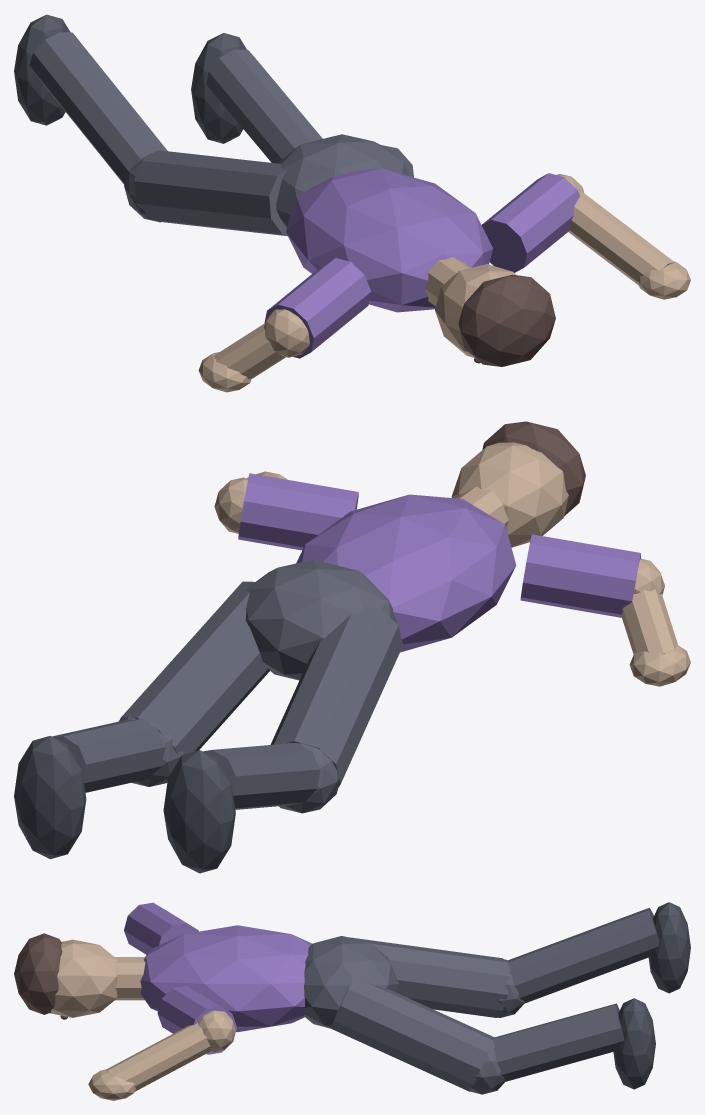
3 renders of one model, top to bottom at view 1: azimuth 30°, elevation 25°; view 2: azimuth 150°, elevation 25°; view 3: azimuth 270°, elevation 25°, orthographic. The views are drawn at different scales.
Parts seen in each view (by area): view 1: world; view 2: world; view 3: world.
Boxes of the visible parts, <box> form: world: <box>14,14,690,392</box>; world: <box>14,421,690,873</box>; world: <box>14,902,690,1100</box>.
Size of the model in its own units: 1.25 by 0.4125 by 2.01.
